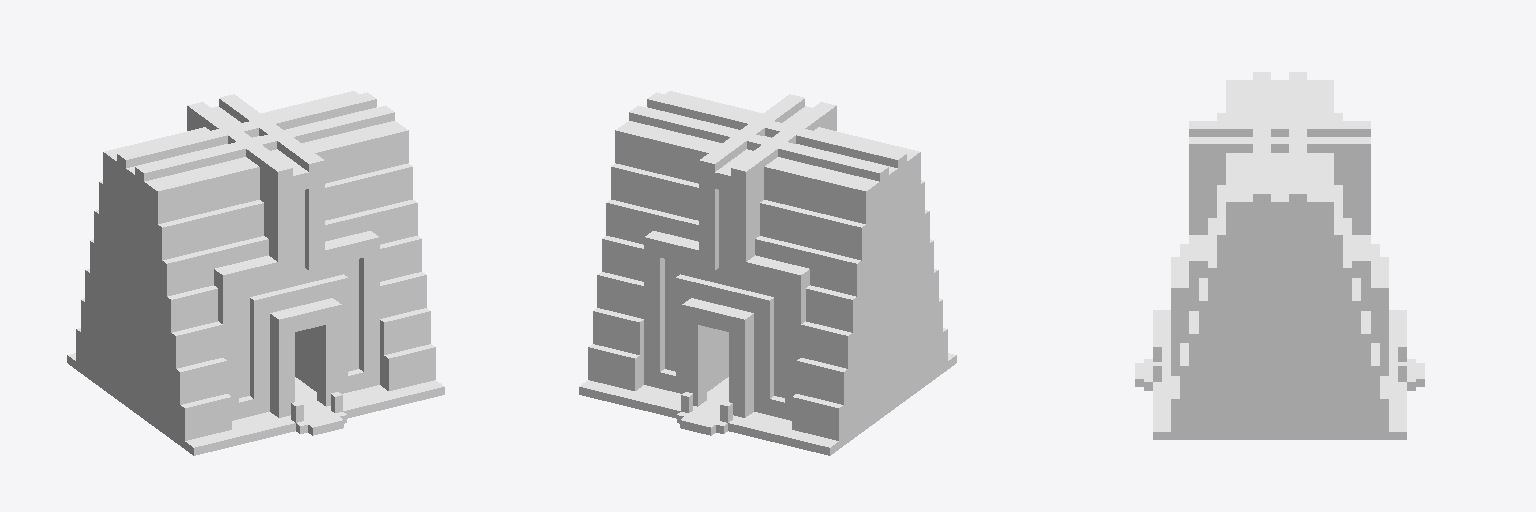
The model's file is wallGate2.obj.
3 renders of one model, left to right at view 1: azimuth 30°, elevation 25°; view 2: azimuth 150°, elevation 25°; view 3: azimuth 270°, elevation 25°, orthographic.
Parts seen in each view (by area): view 1: object 1; view 2: object 1; view 3: object 1.
Boxes of the visible parts, <box> form: object 1: <box>67,91,444,455</box>; object 1: <box>579,91,956,455</box>; object 1: <box>1135,72,1424,439</box>.
Bounding box in the file's own units: 3.2 × 3 × 3.2.